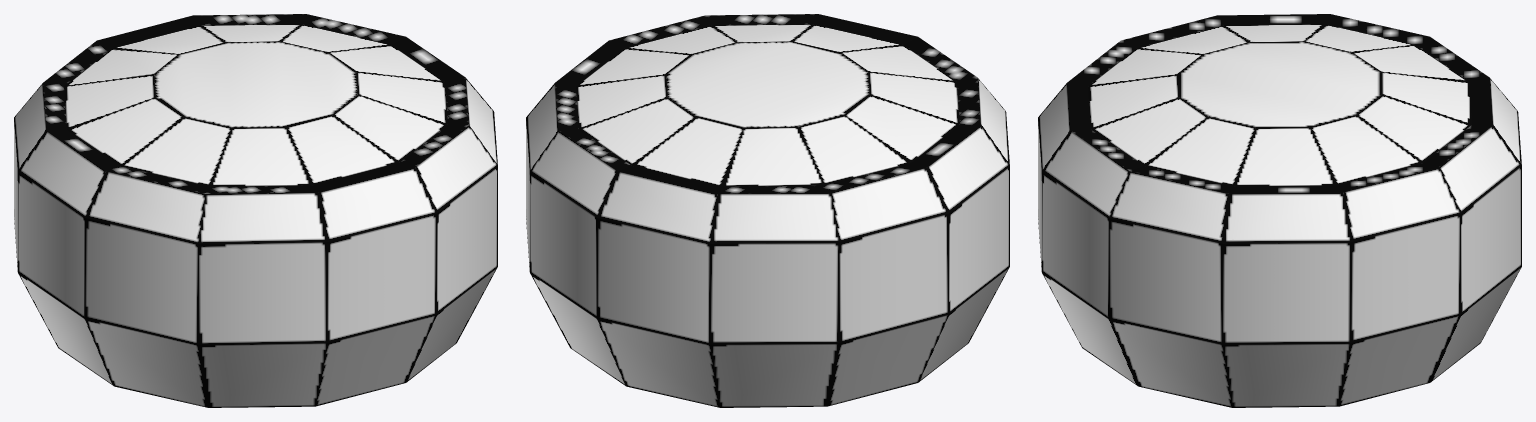
Rendered from triebwerk.obj.
3 views of the same model, side by side, from view 1: azimuth 30°, elevation 25°; view 2: azimuth 150°, elevation 25°; view 3: azimuth 270°, elevation 25° (orthographic).
Parts seen in each view (by area): view 1: cube1_sep131; view 2: cube1_sep131; view 3: cube1_sep131.
Boxes of the visible parts, <box> form: cube1_sep131: <box>14,14,497,407</box>; cube1_sep131: <box>526,14,1009,407</box>; cube1_sep131: <box>1038,14,1521,407</box>.
Size of the model in its own units: 7.01 by 3.81 by 7.01.
Materials: 1 (1 with a texture image).
